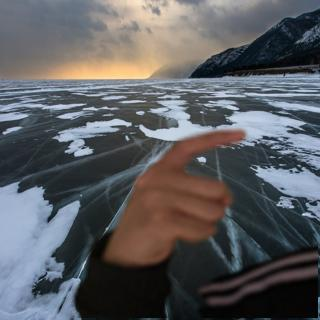WHY: (103, 121, 255, 268)
